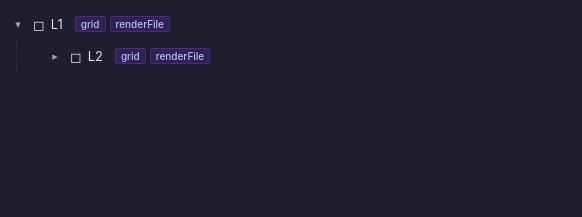
Test: TreeNode - Deep Nesting Collapse › should render deeply nested nodes inline within a full tree (no collapse)
Expected: the text "L1" is shown, [51,16,63,32]
Expected: the text "L2" is shown, [88,48,103,64]
Click the button with class "toggle" showing "▸" at (55, 56), box [52,49,58,63]
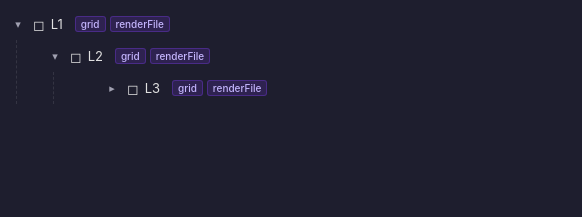
Click the button with class "toggle" showing "▸" at (112, 88), box [109,81,115,95]
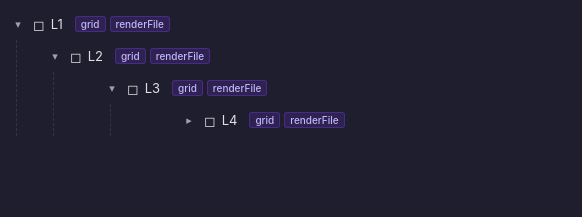
Click the button with class "toggle" showing "▸" at (189, 120), box [186,113,192,127]
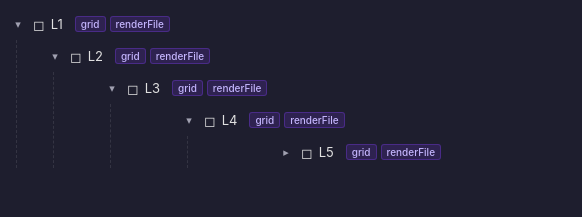
Click the button with class "toggle" showing "▸" at (286, 152), box [283,145,289,159]
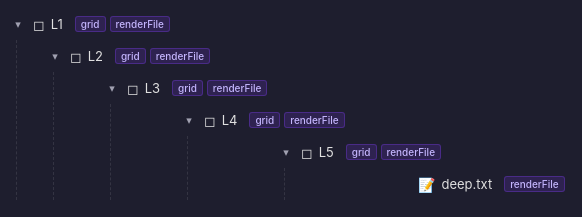
Expected: the text "L5" is shown, [319,144,334,160]
Expected: the text "deep.txt" is shown, [442,176,492,192]
